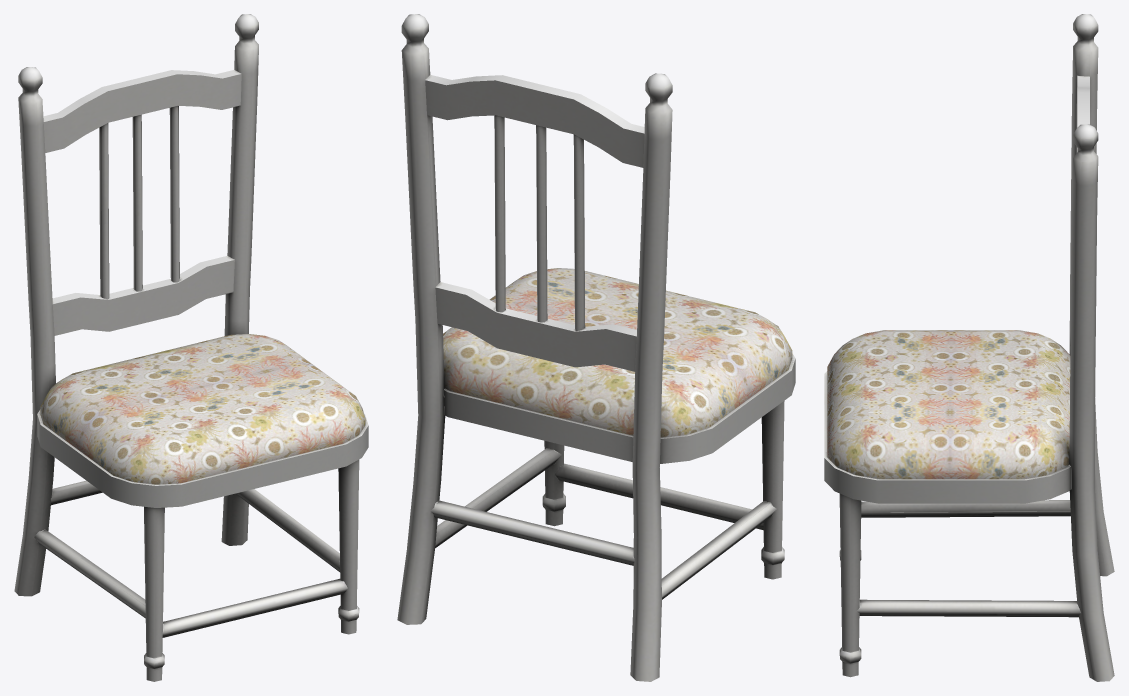
3 renders of one model, left to right at view 1: azimuth 30°, elevation 25°; view 2: azimuth 150°, elevation 25°; view 3: azimuth 270°, elevation 25°, orthographic. The views are drawn at different scales.
Visible parts, largest first — view 1: yizi24; view 2: yizi24; view 3: yizi24.
Part boxes in pixels (box(x1,y1,x2,y2)): yizi24: box(14, 14, 368, 681); yizi24: box(397, 14, 795, 681); yizi24: box(824, 14, 1114, 681).
Bounding box in the file's own units: 60 × 56.93 × 120.
1 material, 1 textured.
